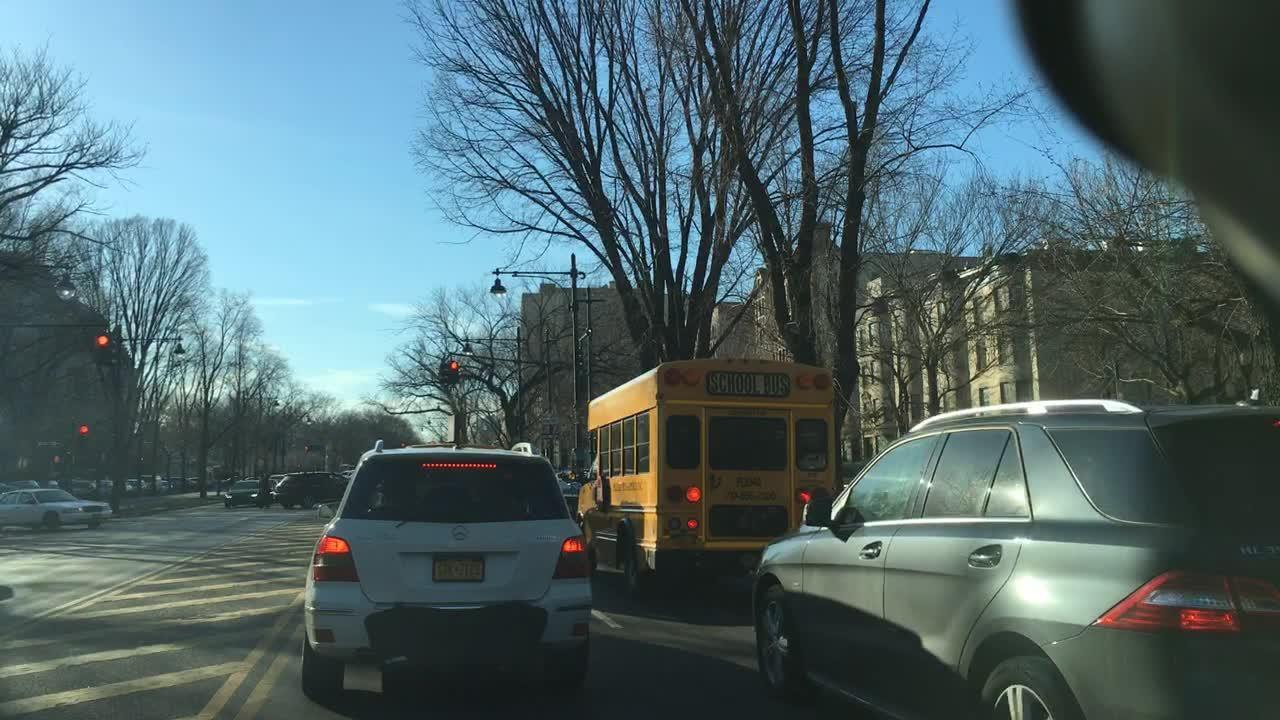Mercedes: (445, 519, 471, 542)
